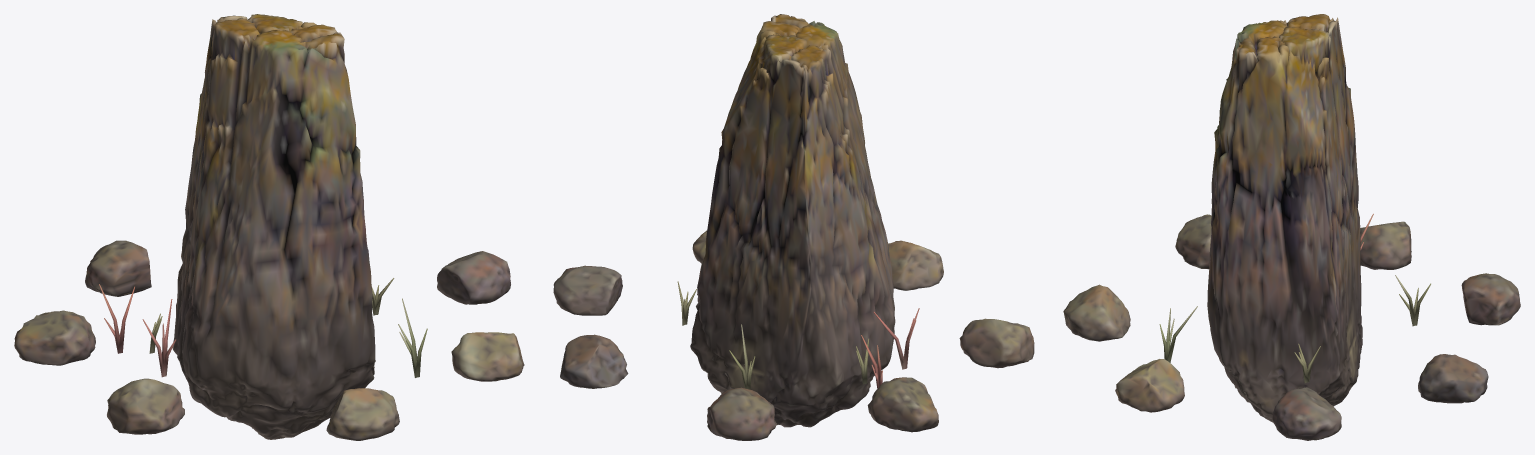
File: tas_dikili.glb
The picture shows the model from 3 angles, left to right: view 1: azimuth 30°, elevation 25°; view 2: azimuth 150°, elevation 25°; view 3: azimuth 270°, elevation 25°; orthographic projection. The views are drawn at different scales.
Parts seen in each view (by area): view 1: tas_dikili_LOD0; view 2: tas_dikili_LOD0; view 3: tas_dikili_LOD0.
Boxes of the visible parts, x1,y1,x2,y2 form: tas_dikili_LOD0: (14,14,524,440); tas_dikili_LOD0: (553,14,1034,440); tas_dikili_LOD0: (1063,14,1520,440).
Size of what is drawn, in the model's own units: 2.81 by 2.47 by 2.66.
